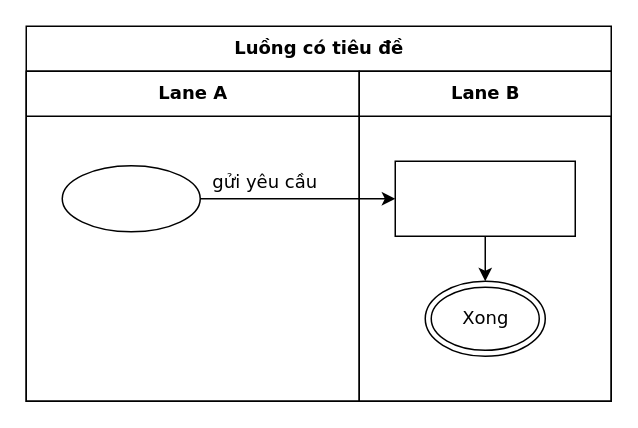
This 638x428 diagram has some shape labels left out. Here are the shapes that lost their labels. From the top down, the box of each, then its label:
(61, 164, 200, 232): Bắt đầu
(394, 160, 575, 236): Xử lý
